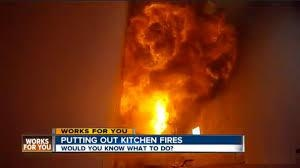fire: (145, 91, 173, 133)
